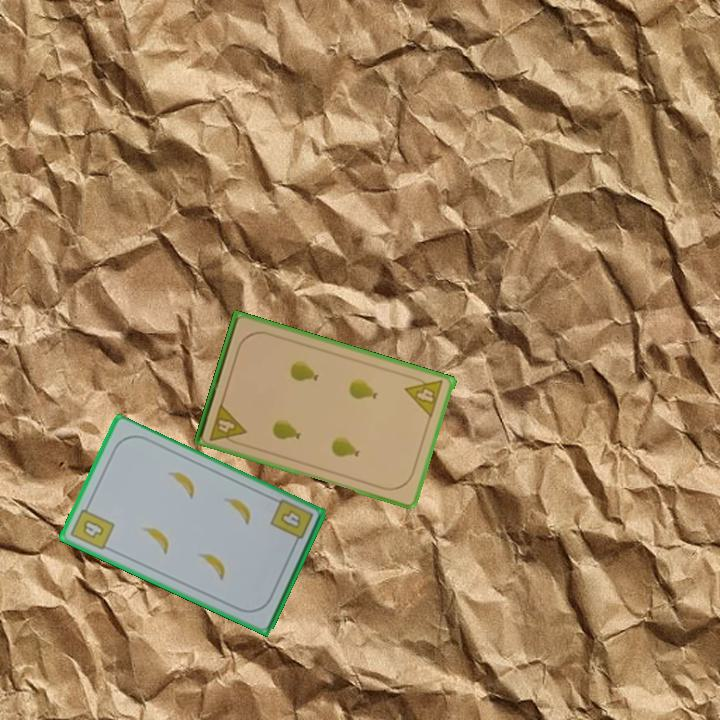4b: (67, 500, 117, 553), (267, 495, 316, 549)
4p: (402, 371, 446, 421), (206, 400, 249, 448)
